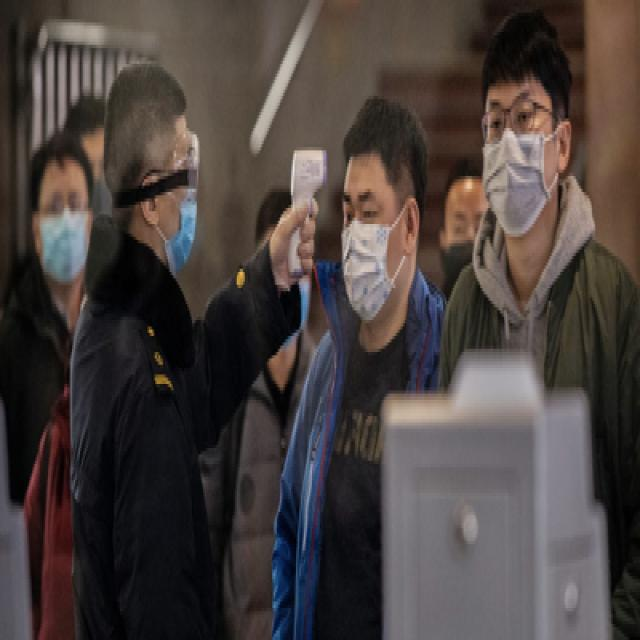with_mask: (482, 86, 558, 236), (341, 182, 400, 320), (155, 124, 200, 278), (38, 176, 92, 285), (444, 198, 490, 288)
